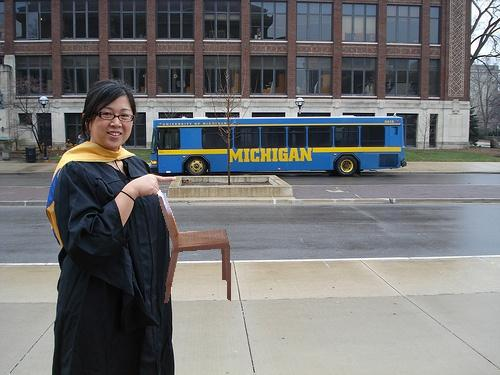tampered: (158, 191, 231, 303)
